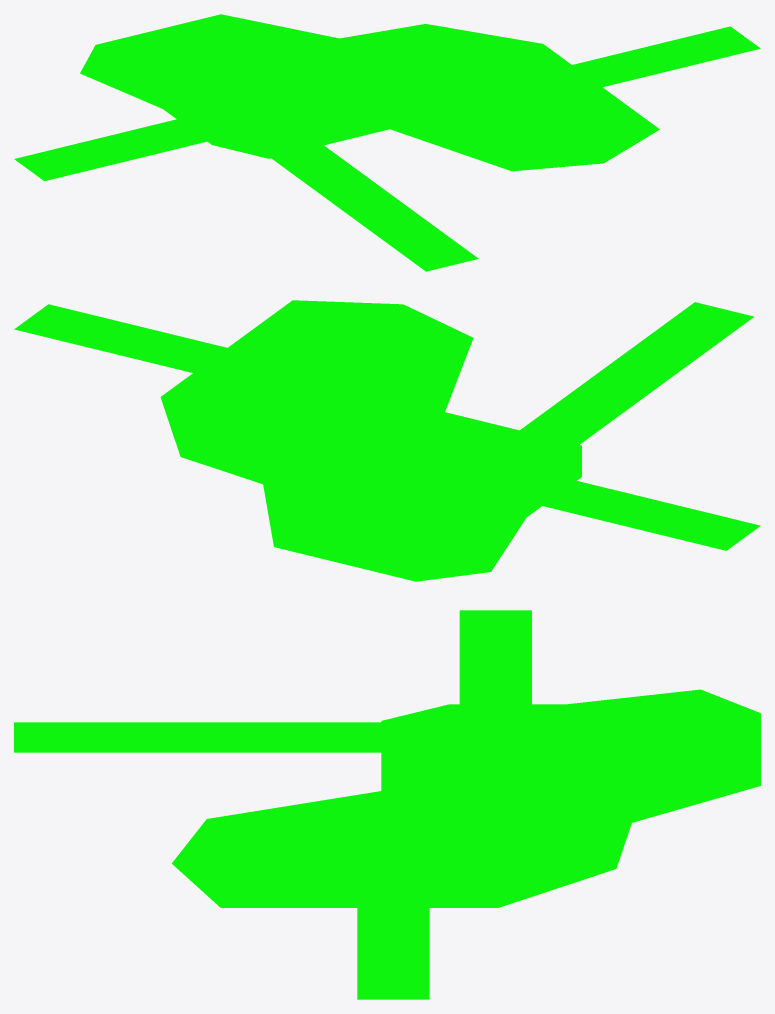
Rendered from s01b_td2-floor.glb.
The picture shows the model from 3 angles, top to bottom: view 1: azimuth 30°, elevation 25°; view 2: azimuth 150°, elevation 25°; view 3: azimuth 270°, elevation 25°; orthographic projection. The views are drawn at different scales.
Visible parts, largest first — view 1: collision_floor-colonly; view 2: collision_floor-colonly; view 3: collision_floor-colonly.
Part boxes in pixels (x1=…): collision_floor-colonly: x1=14, y1=14, x2=760, y2=271; collision_floor-colonly: x1=14, y1=300, x2=760, y2=581; collision_floor-colonly: x1=14, y1=610, x2=760, y2=999.
Size of the model in its own units: 76.5 by 0 by 62.
